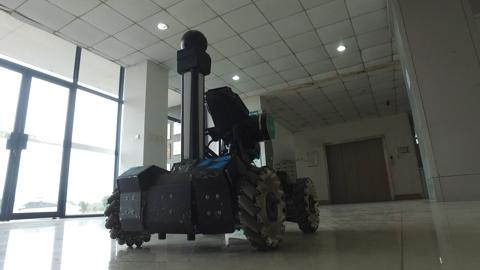chariot: (93, 25, 333, 255)
